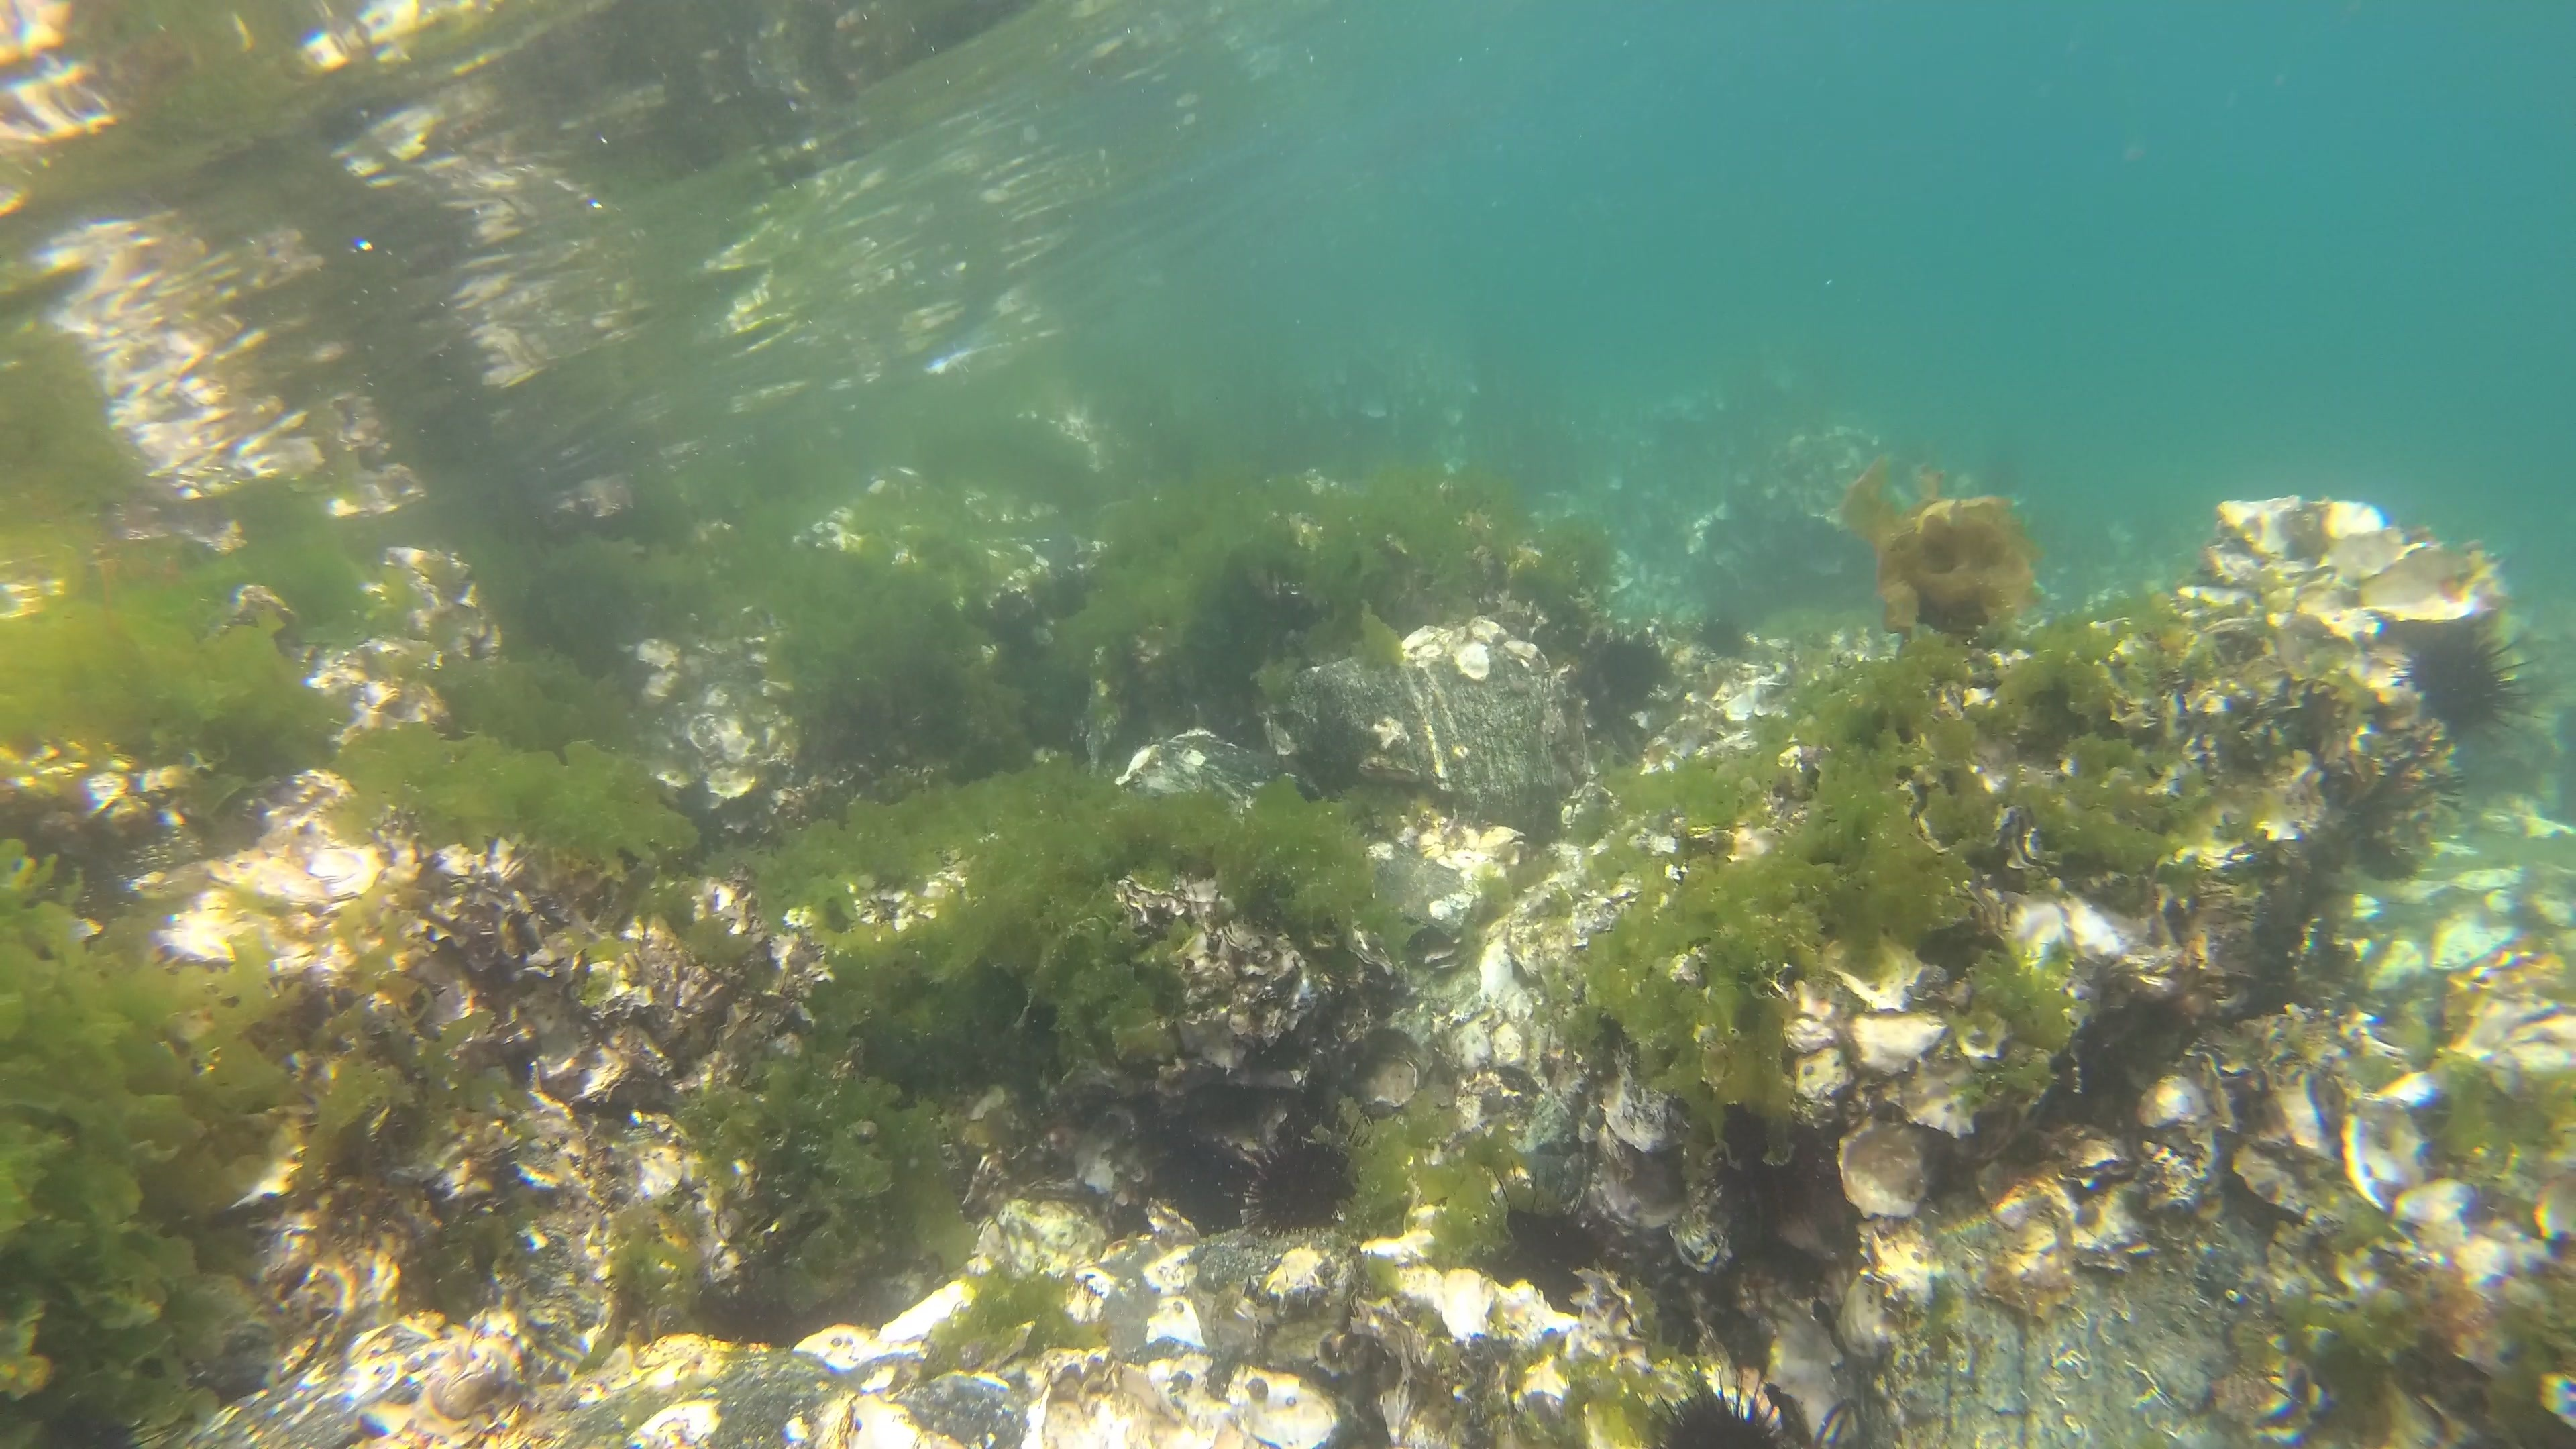echinus: (2404, 616, 2541, 754), (1488, 1171, 1605, 1320), (1237, 1131, 1361, 1244), (1652, 1382, 1798, 1449), (1583, 626, 1667, 713), (1700, 610, 1752, 669)
